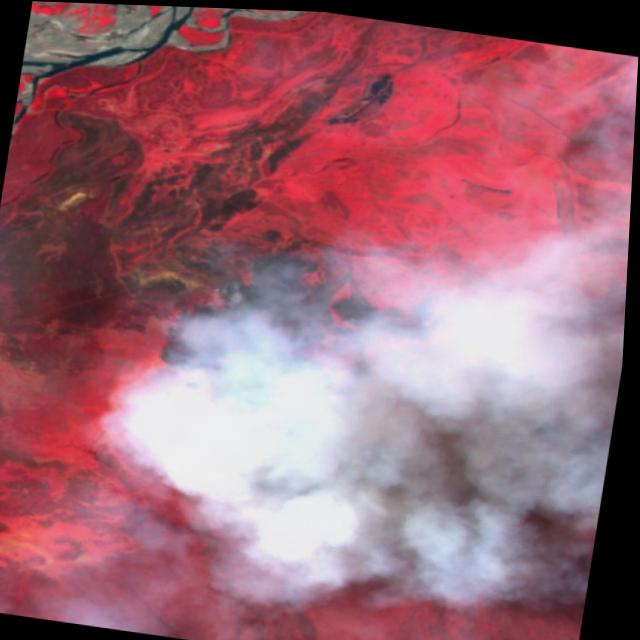fire: (130, 221, 433, 497)
